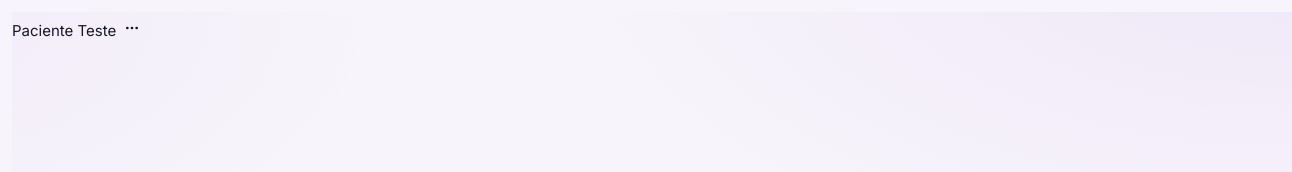
Test: Menu de ações do paciente (regressão multi-viewport) › abre o menu ao clicar e mostra as duas opções
The width and height of the screenshot is (1292, 172).
Click the button named "Ações do paciente". click: x=132, y=28
box: top-left (116, 12), bottom-right (148, 44)
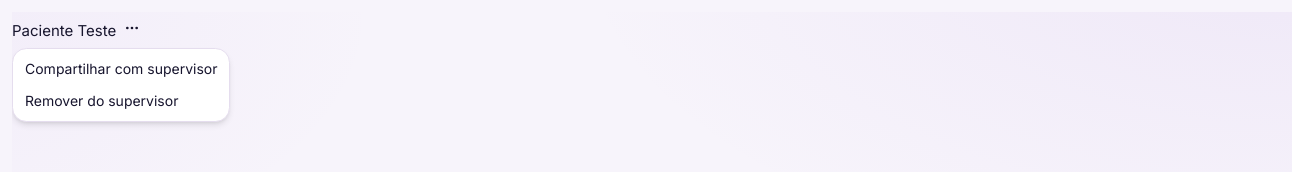
Result: the menu item "Compartilhar com supervisor" is shown at top-left (25, 60), bottom-right (218, 77)
Result: the menu item "Remover do supervisor" is shown at top-left (25, 92), bottom-right (178, 109)
